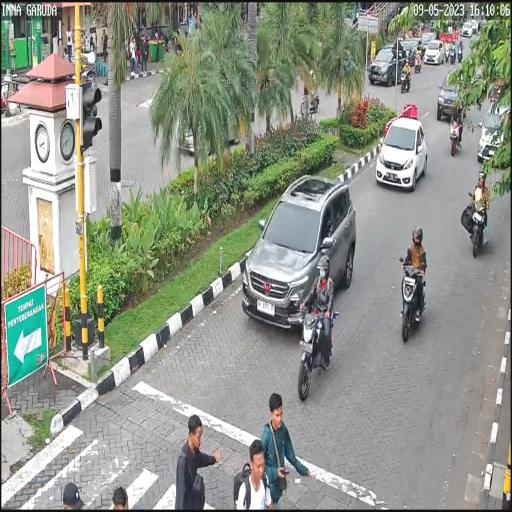mobil: (242, 162, 357, 344), (375, 114, 430, 196)
motor: (292, 300, 338, 408), (397, 252, 428, 351), (464, 186, 491, 263)
